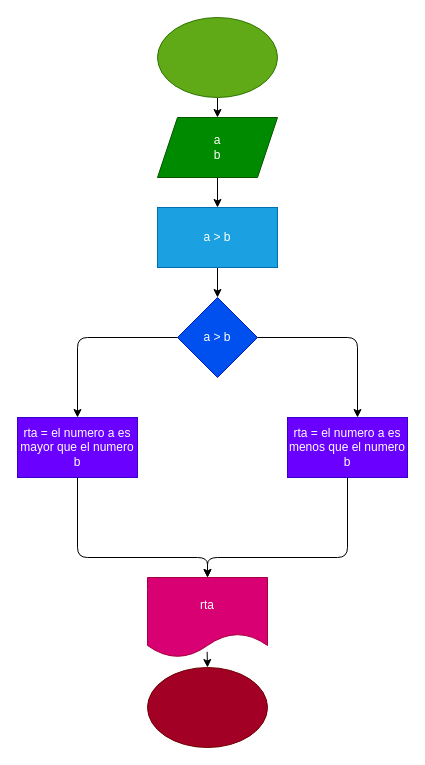
Image size: 425x765. Some labels were removed from this diagram. The shapes that lost their labels are listed below. From the top down, each one's centre as x and y in pixels, then its label:
the point at 217,57: incio
the point at 207,707: final
